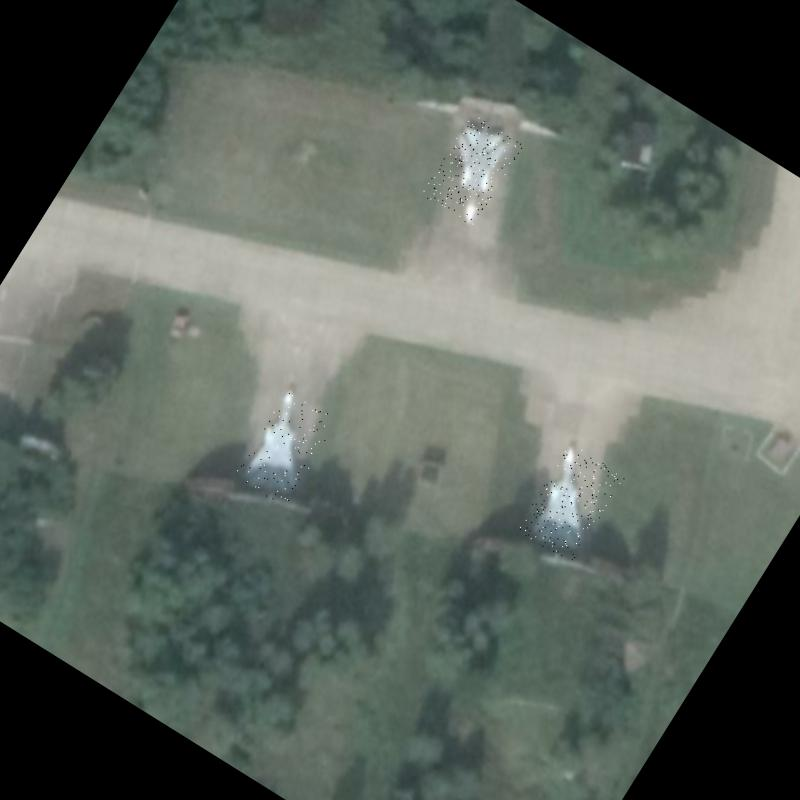A20: (516, 442, 626, 564), (233, 387, 340, 508), (420, 114, 524, 228)
